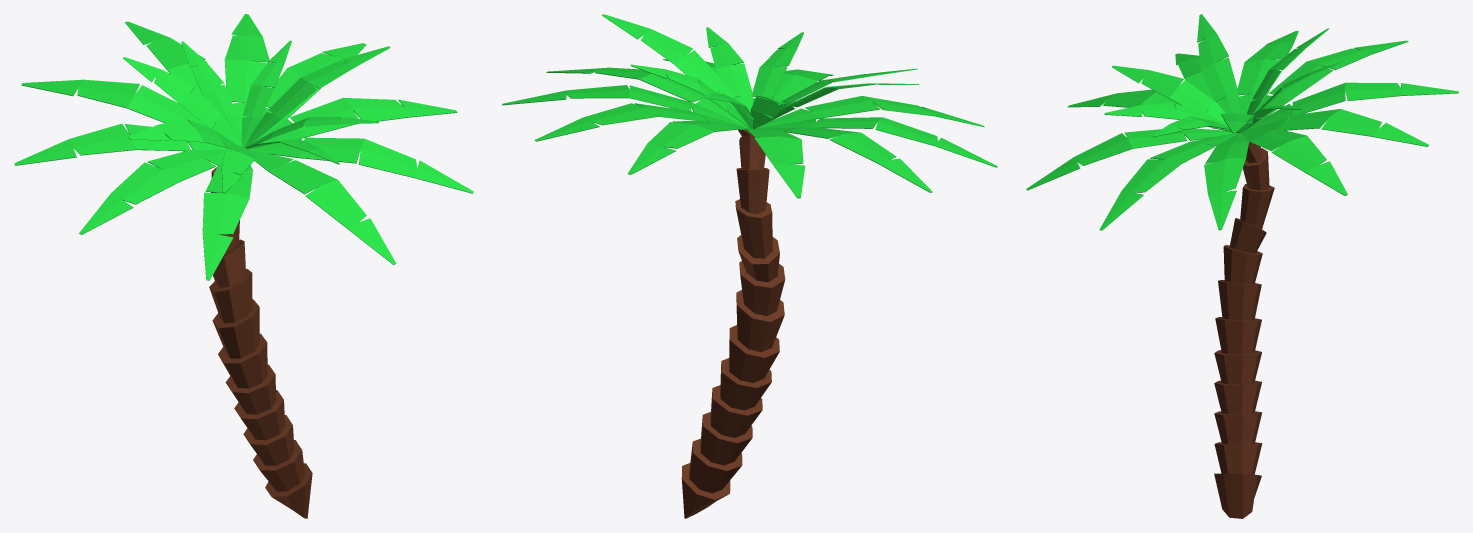
The model's file is Palme3.fbx.
3 renders of one model, left to right at view 1: azimuth 30°, elevation 25°; view 2: azimuth 150°, elevation 25°; view 3: azimuth 270°, elevation 25°, orthographic. The views are drawn at different scales.
Parts seen in each view (by area): view 1: Palme; view 2: Palme; view 3: Palme.
Part boxes in pixels (x1,y1,x2,y2): Palme: (14,14,473,518); Palme: (502,14,997,518); Palme: (1026,14,1458,518).
Bounding box in the file's own units: 6.77 × 7.33 × 6.7.
